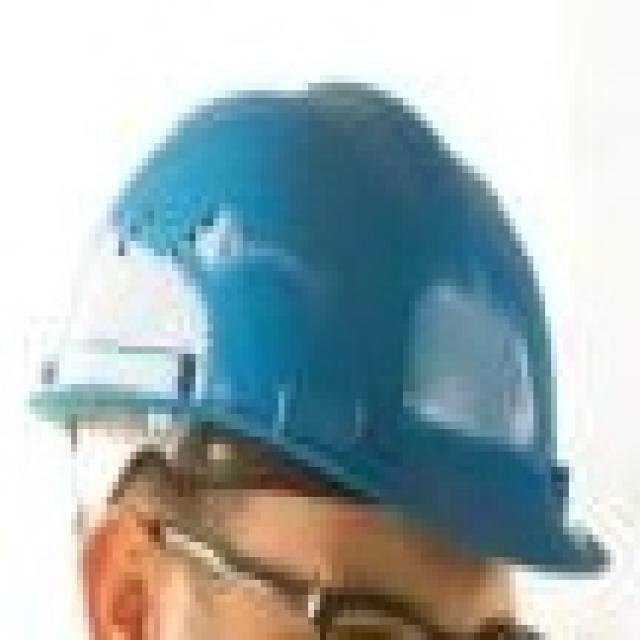blue helmet: (24, 81, 606, 580)
